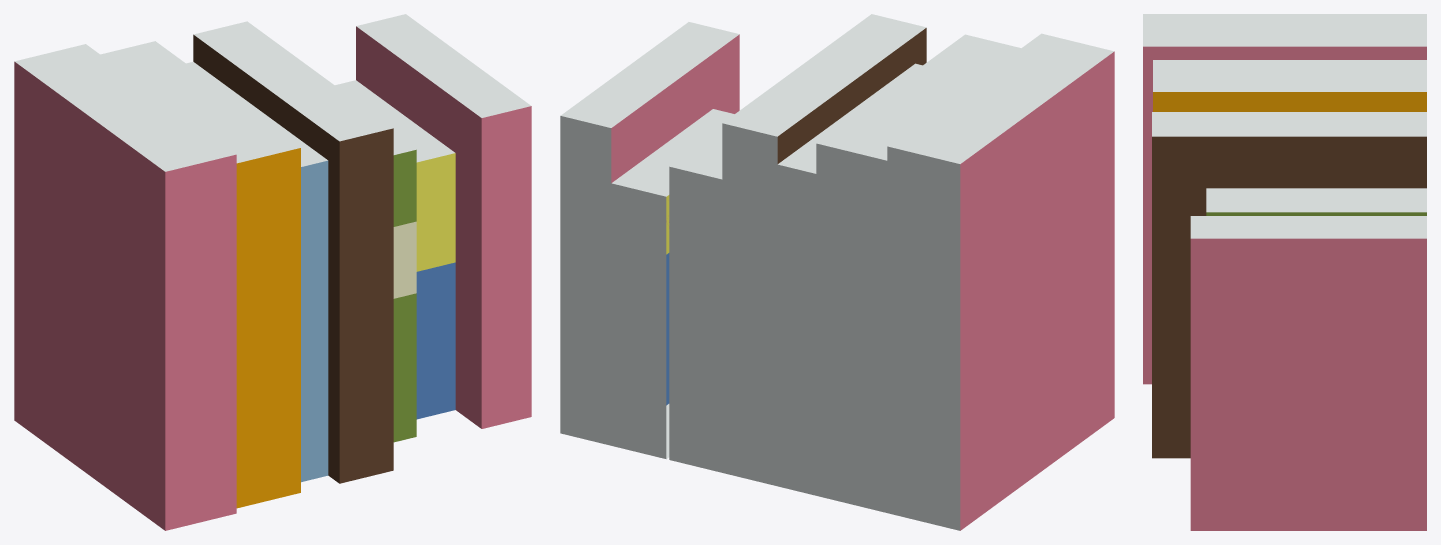
The model's file is 66_prop_books2.FBX.
3 renders of one model, left to right at view 1: azimuth 30°, elevation 25°; view 2: azimuth 150°, elevation 25°; view 3: azimuth 270°, elevation 25°, orthographic. The views are drawn at different scales.
Visible parts, largest first — view 1: prop_books2; view 2: prop_books2; view 3: prop_books2.
Part boxes in pixels (box(x1,y1,x2,y2)): prop_books2: box(14, 14, 531, 530); prop_books2: box(560, 14, 1114, 530); prop_books2: box(1143, 14, 1426, 530).
Bounding box in the file's own units: 22.12 × 19.39 × 14.78.
